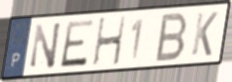1: (129, 17, 144, 62)
B: (153, 10, 190, 64)
E: (58, 18, 96, 70)
H: (91, 14, 128, 68)
K: (189, 11, 220, 58)
N: (29, 20, 63, 70)
